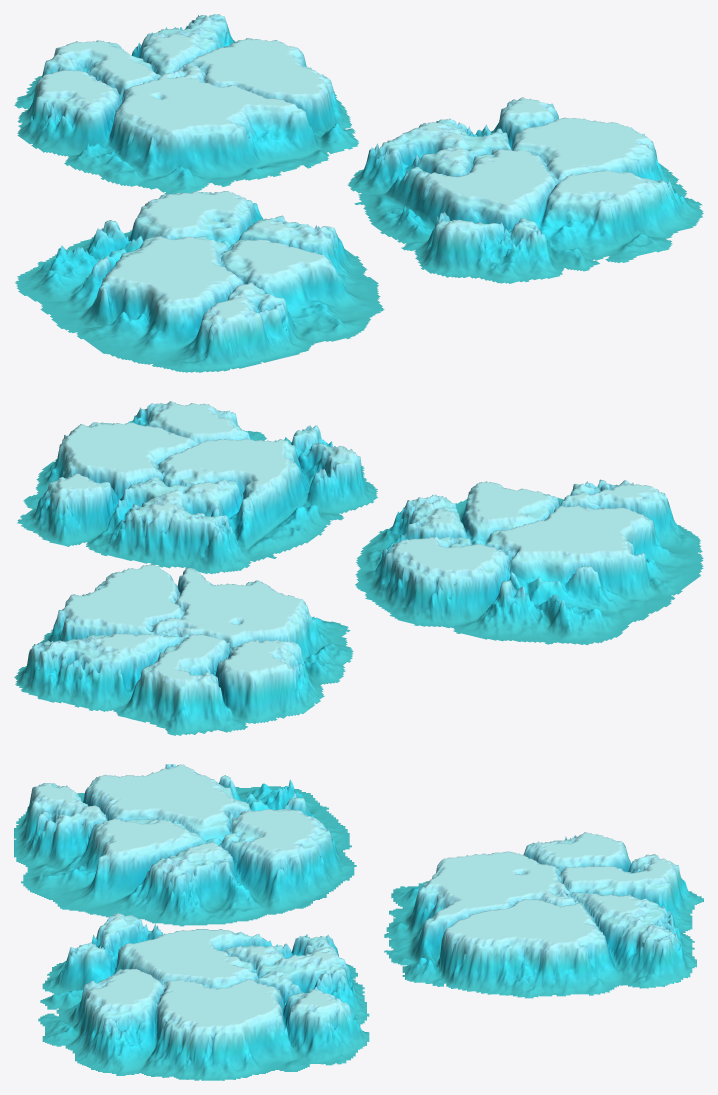
Rendered from GLACIER_2.glb.
The picture shows the model from 3 angles, top to bottom: view 1: azimuth 30°, elevation 25°; view 2: azimuth 150°, elevation 25°; view 3: azimuth 270°, elevation 25°; orthographic projection.
Parts seen in each view (by area): view 1: Landscape.002; view 2: Landscape.002; view 3: Landscape.002.
Boxes of the visible parts, x1=… form: Landscape.002: x1=14, y1=14, x2=703, y2=372; Landscape.002: x1=14, y1=401, x2=703, y2=735; Landscape.002: x1=14, y1=764, x2=703, y2=1080.
Bounding box in the file's own units: 3.88 × 0.2498 × 3.8.
1 material, 1 textured.
